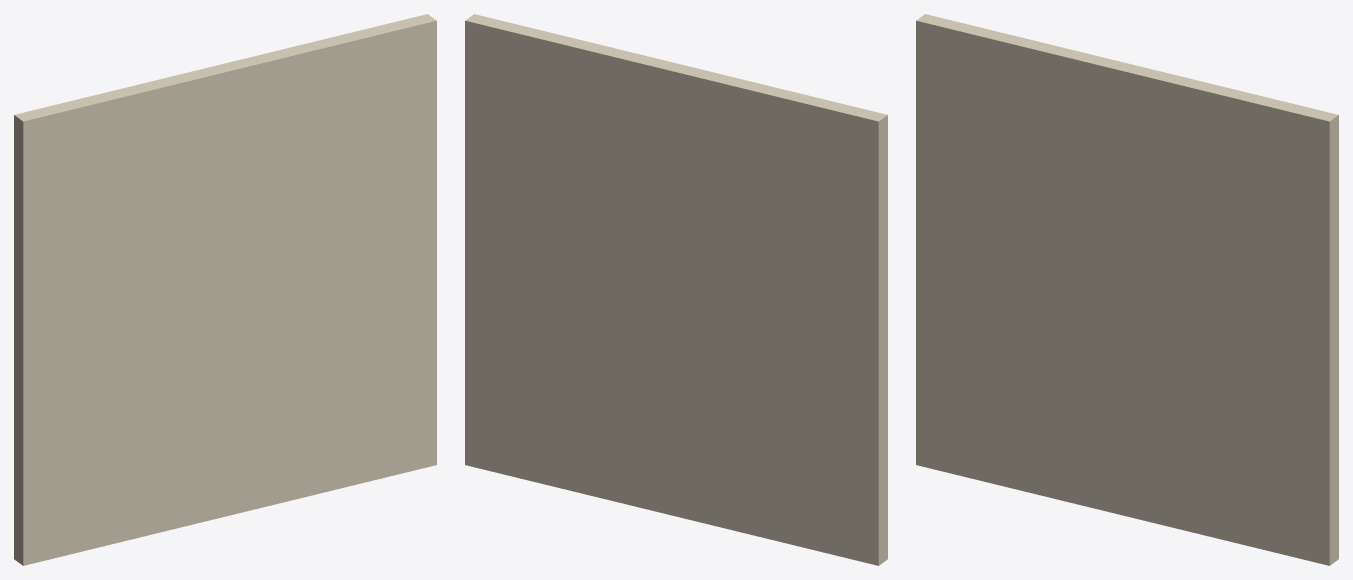
3 views of the same model, side by side, from view 1: azimuth 30°, elevation 25°; view 2: azimuth 150°, elevation 25°; view 3: azimuth 330°, elevation 25° (orthographic).
Parts seen in each view (by area): view 1: B-GF-WALL-008; view 2: B-GF-WALL-008; view 3: B-GF-WALL-008.
Part boxes in pixels (x1,y1,x2,y2): B-GF-WALL-008: (14,14,436,565); B-GF-WALL-008: (465,14,887,565); B-GF-WALL-008: (916,14,1338,565).
Size of the model in its own units: 2.36 by 2.42 by 0.09.
